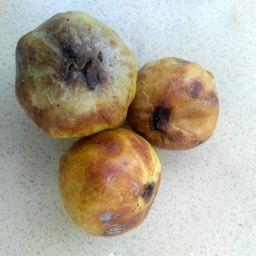guava: (15, 10, 140, 138), (57, 130, 167, 240), (134, 55, 220, 152)
